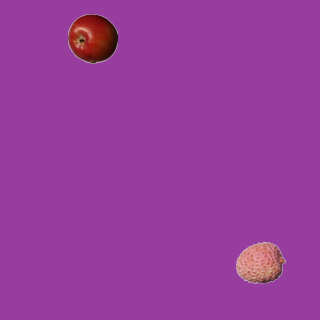Apple Braeburn: (67, 13, 117, 63)
Lychee: (235, 237, 285, 287)
